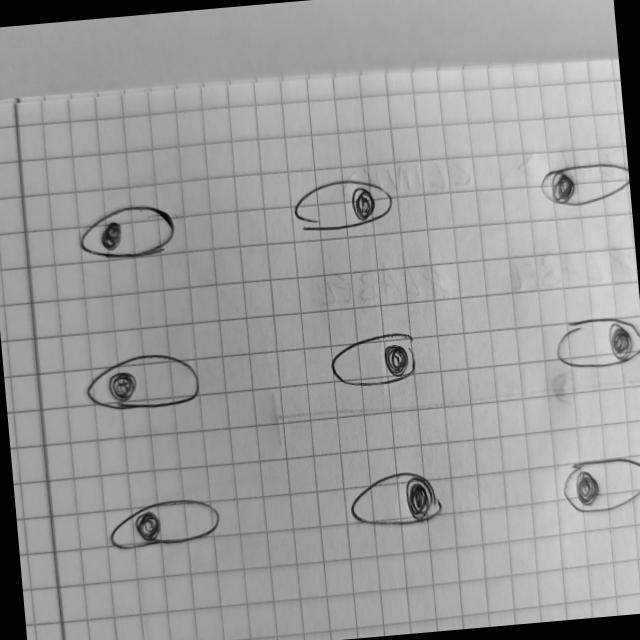toggle: (81, 348, 208, 418), (105, 492, 226, 555), (287, 172, 403, 237), (71, 199, 183, 266), (344, 465, 449, 532), (327, 326, 426, 393), (549, 309, 640, 374), (555, 451, 640, 517), (534, 157, 632, 211)
